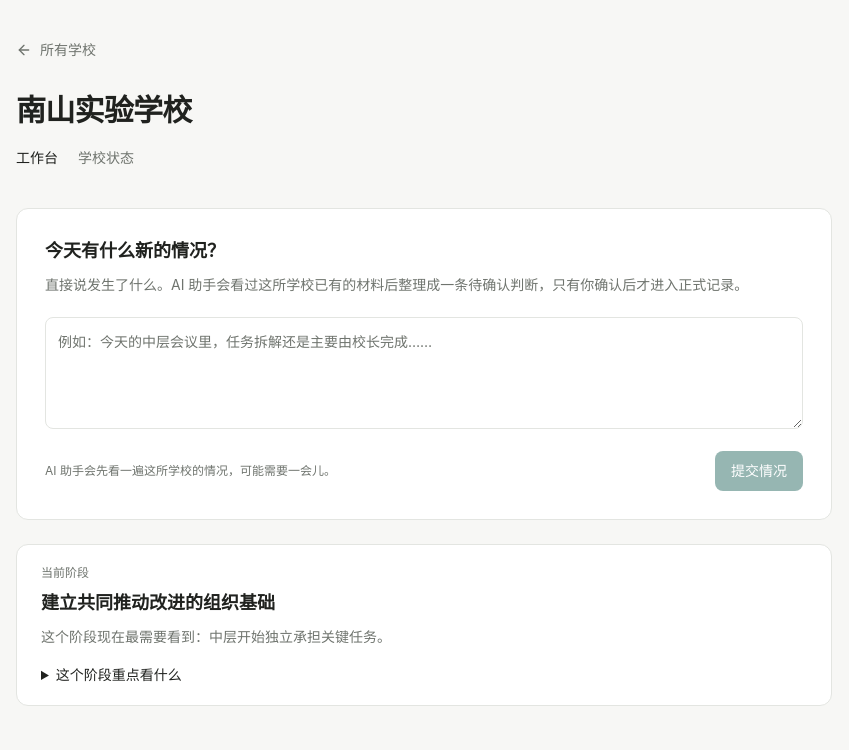
Test: SchoolWorkspacePage › submits a situation, reviews the proposed judgment and records acceptance
Expected: the heading "南山实验学校" is shown, [16,92,192,128]
Type "中层会议里仍由校长完成任务拆解。" into the text box with placeholder "例如：今天的中层会议里，任务拆解还是主要由校长完成……". click: point(424, 373)
box: [45,317,803,429]
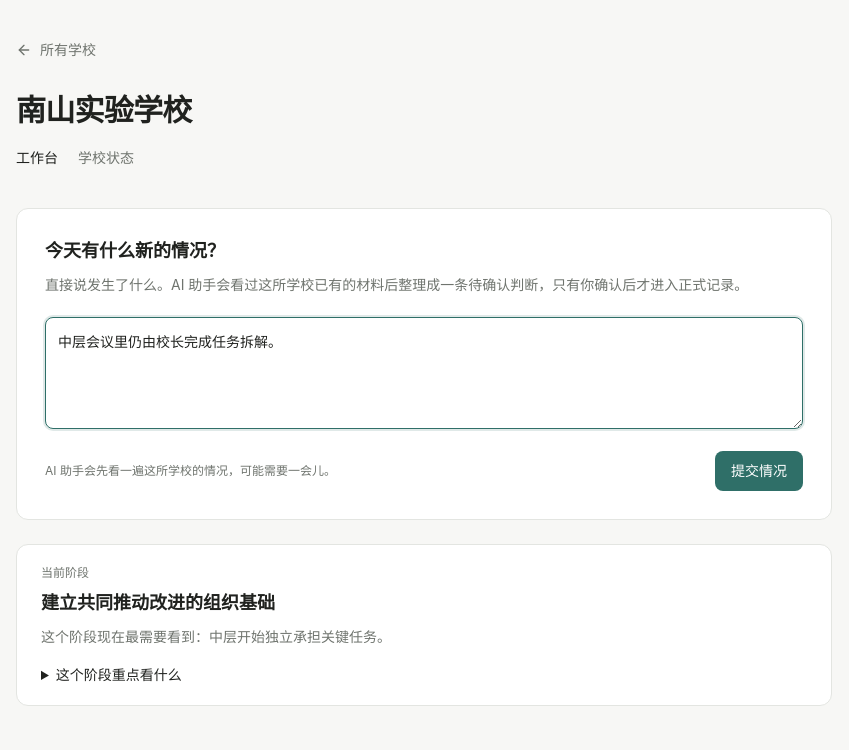
Click the button "提交情况". click: point(759, 471)
box: [715,451,803,491]
(page scrolled)
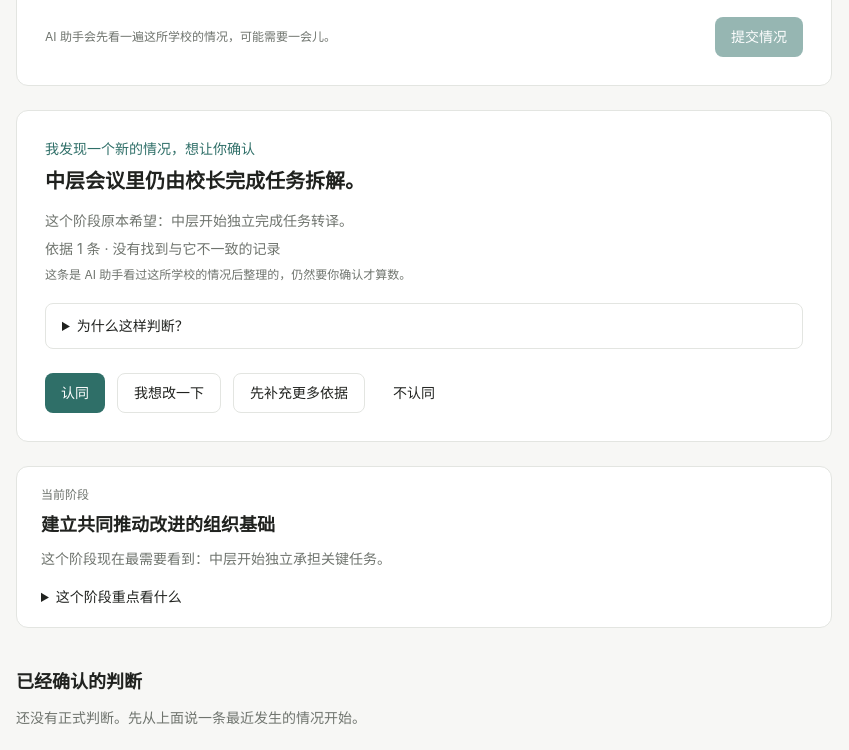
Result: the text "我发现一个新的情况，想让你确认" is shown at [45,140,255,157]
Click the button "认同". click: point(75, 393)
box: [45,373,105,413]
(page scrolled)
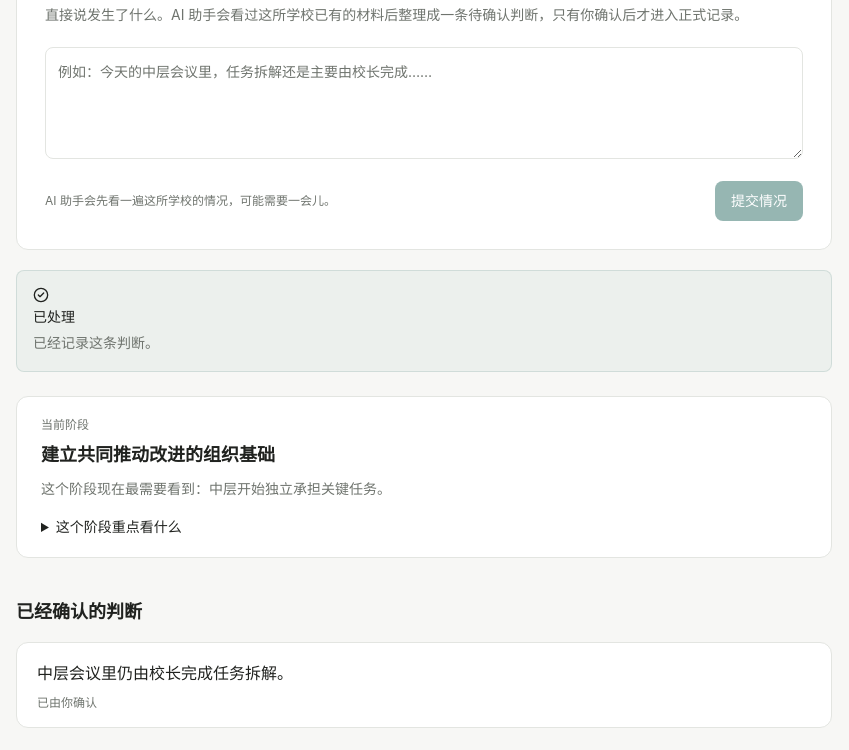
Result: the text "中层会议里仍由校长完成任务拆解。" is shown at [37,663,293,683]
Result: the text "已经记录这条判断。" is shown at [33,334,159,351]
